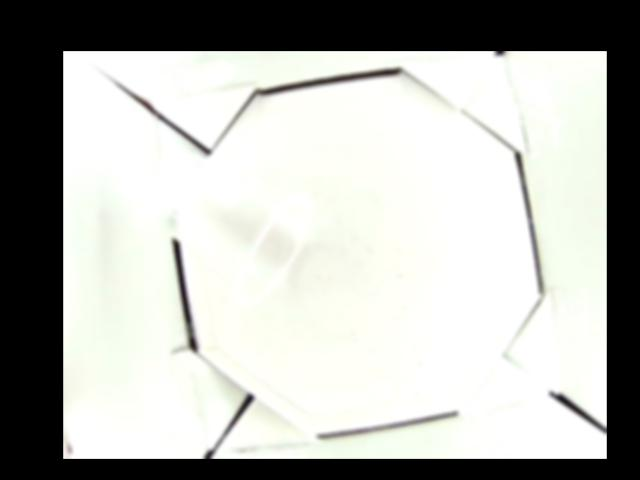Cup: (137, 150, 312, 301)
